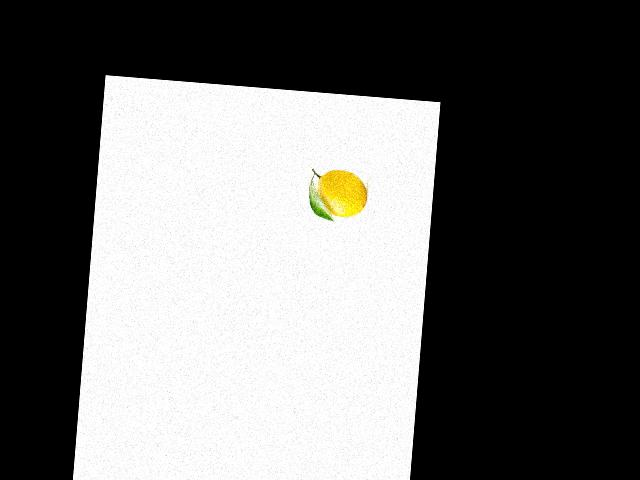lemon: (308, 165, 370, 222)
